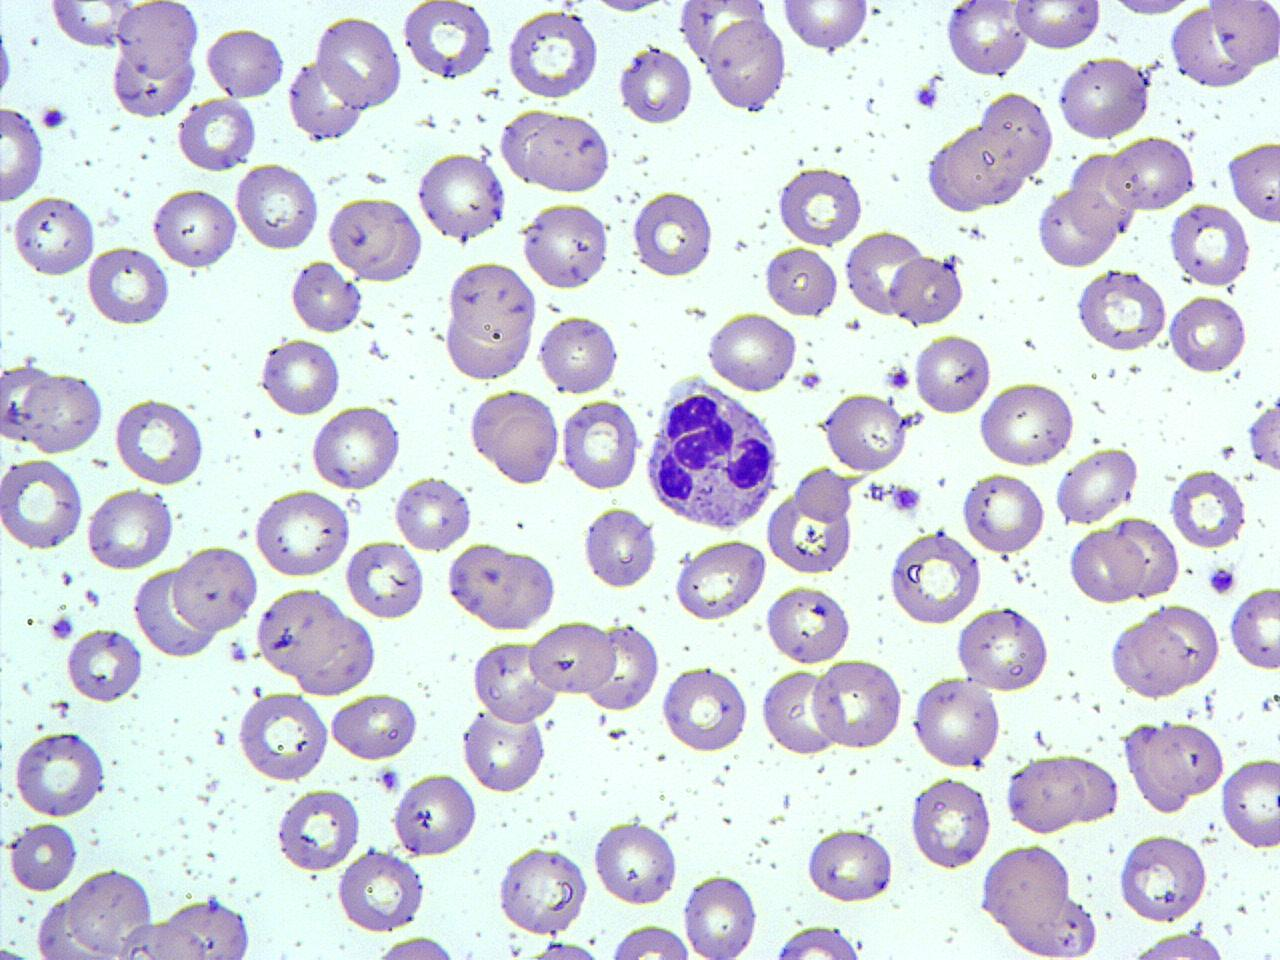Platelets: (892, 484, 922, 516), (1207, 566, 1237, 596), (884, 364, 912, 391), (50, 616, 77, 641), (39, 106, 67, 130), (379, 766, 402, 794), (796, 370, 824, 393), (914, 82, 938, 108), (228, 638, 250, 664), (864, 480, 884, 501), (942, 252, 959, 268), (252, 682, 264, 700), (206, 892, 219, 908)
RBC: (976, 840, 1082, 952), (443, 541, 558, 633), (445, 258, 536, 367), (252, 486, 352, 580), (504, 6, 602, 101), (886, 530, 982, 626), (976, 378, 1077, 469), (910, 674, 1003, 772), (495, 844, 591, 938), (313, 12, 403, 112), (507, 110, 614, 194), (235, 692, 331, 785), (955, 602, 1052, 694), (810, 658, 904, 752), (1072, 266, 1170, 356), (111, 395, 207, 486), (11, 728, 108, 818), (1116, 832, 1210, 924), (415, 150, 507, 243), (520, 198, 610, 293), (1054, 56, 1152, 143), (908, 772, 993, 872), (658, 664, 750, 756), (324, 195, 422, 281), (476, 388, 562, 486), (108, 29, 201, 119), (704, 16, 788, 115), (65, 866, 155, 958), (308, 404, 402, 492), (672, 538, 768, 624), (0, 454, 84, 552), (234, 160, 321, 254), (764, 487, 855, 576), (170, 544, 259, 634), (255, 586, 342, 678), (704, 311, 800, 394), (840, 228, 928, 318), (336, 847, 427, 934), (84, 486, 176, 572), (592, 819, 679, 909), (941, 121, 1028, 210), (150, 185, 239, 272), (468, 638, 558, 724), (274, 787, 362, 874), (293, 609, 378, 699), (1168, 6, 1258, 91), (632, 189, 716, 280), (400, 1, 495, 81), (459, 708, 547, 794), (528, 616, 618, 700), (1168, 200, 1252, 290), (560, 398, 640, 492), (391, 772, 478, 858), (536, 311, 622, 398), (85, 242, 171, 328), (822, 390, 910, 474), (774, 165, 864, 247), (961, 472, 1048, 556), (9, 194, 96, 278), (760, 666, 840, 757), (680, 870, 760, 960), (804, 826, 894, 906), (978, 88, 1056, 180), (766, 582, 852, 665), (912, 329, 992, 418), (586, 620, 661, 714), (284, 59, 366, 143), (344, 537, 426, 621), (25, 370, 106, 455), (116, 0, 202, 80), (1054, 446, 1140, 526), (1108, 133, 1196, 211), (1123, 720, 1193, 818), (581, 503, 658, 591), (258, 336, 340, 418), (1168, 468, 1248, 552), (1108, 616, 1188, 700), (1168, 292, 1248, 376), (1143, 601, 1221, 687), (618, 42, 695, 128), (329, 690, 418, 764), (1034, 189, 1116, 269), (944, 1, 1030, 77), (1004, 755, 1084, 836), (65, 624, 143, 706), (175, 96, 256, 174), (1109, 515, 1181, 602), (392, 474, 472, 552), (1068, 525, 1144, 607), (288, 257, 364, 337), (154, 900, 254, 960), (763, 243, 840, 320), (1151, 720, 1227, 798), (204, 25, 284, 99), (1220, 754, 1280, 851), (887, 256, 967, 324), (6, 820, 77, 894), (1205, 0, 1279, 70), (1052, 752, 1120, 828), (107, 912, 211, 960), (1011, 0, 1103, 53), (0, 364, 60, 445), (1227, 581, 1279, 673), (1226, 138, 1280, 225), (780, 0, 869, 52), (0, 106, 47, 204), (47, 0, 131, 51), (785, 464, 853, 526), (1115, 926, 1241, 959), (770, 924, 868, 960), (606, 922, 694, 960), (1245, 398, 1280, 480), (370, 933, 470, 960), (1104, 0, 1198, 21), (0, 9, 15, 104)
WBC: (640, 374, 784, 534), (448, 257, 538, 381), (299, 13, 394, 129), (448, 539, 558, 631), (504, 105, 616, 195), (110, 18, 202, 120), (1075, 266, 1171, 358), (1167, 466, 1247, 554), (285, 56, 364, 144), (157, 898, 256, 960), (887, 254, 965, 328), (1109, 926, 1247, 958), (1246, 400, 1280, 479)
